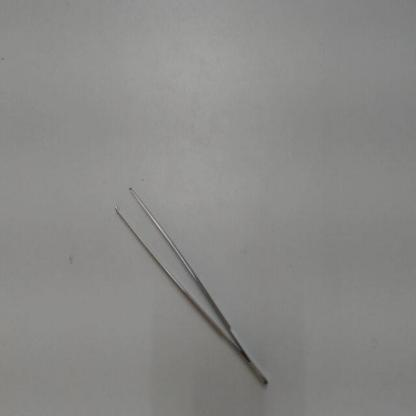Gillies Toothed Dissector: (106, 171, 272, 393)
